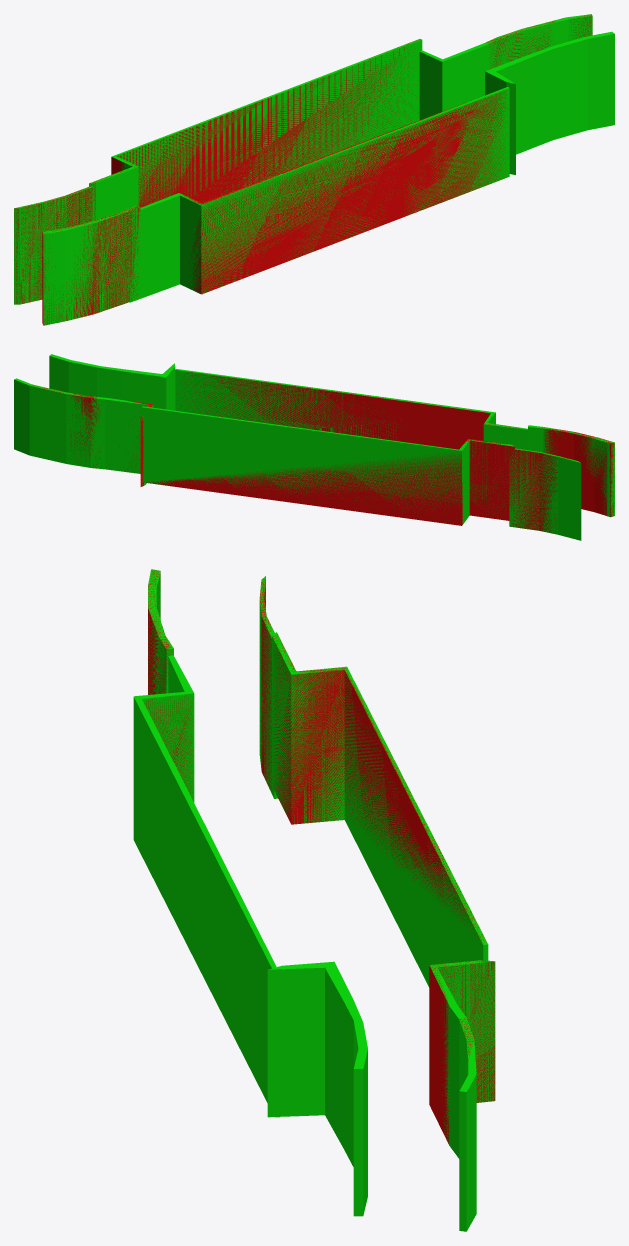
File: InvisibleWall_002.fbx
3 renders of one model, top to bottom at view 1: azimuth 30°, elevation 25°; view 2: azimuth 150°, elevation 25°; view 3: azimuth 270°, elevation 25°, orthographic. The views are drawn at different scales.
Parts seen in each view (by area): view 1: InvisibleWall_002_Phys, Designer93, Designer92, Designer99, Designer90, Designer94, Designer91; view 2: InvisibleWall_002_Phys, Designer92, Designer94, Designer93, Designer91, Designer99, Designer90; view 3: InvisibleWall_002_Phys, Designer93, Designer92, Designer99, Designer94, Designer91, Designer90.
Part boxes in pixels (x1=…): InvisibleWall_002_Phys: x1=14, y1=14, x2=592, y2=324; Designer93: x1=129, y1=87, x2=509, y2=302; Designer92: x1=89, y1=39, x2=422, y2=220; Designer99: x1=485, y1=31, x2=614, y2=175; Designer90: x1=43, y1=205, x2=140, y2=325; Designer94: x1=419, y1=14, x2=592, y2=119; Designer91: x1=14, y1=186, x2=94, y2=304; InvisibleWall_002_Phys: x1=30, y1=371, x2=614, y2=533; Designer92: x1=142, y1=406, x2=514, y2=524; Designer94: x1=14, y1=378, x2=153, y2=485; Designer93: x1=175, y1=369, x2=527, y2=450; Designer91: x1=509, y1=448, x2=581, y2=540; Designer99: x1=49, y1=354, x2=175, y2=410; Designer90: x1=528, y1=425, x2=614, y2=516; InvisibleWall_002_Phys: x1=144, y1=569, x2=495, y2=1143; Designer93: x1=133, y1=655, x2=279, y2=1117; Designer92: x1=272, y1=632, x2=488, y2=987; Designer99: x1=267, y1=961, x2=367, y2=1216; Designer94: x1=429, y1=960, x2=495, y2=1231; Designer91: x1=259, y1=576, x2=277, y2=798; Designer90: x1=148, y1=569, x2=173, y2=694.
Bounding box in the file's own units: 3149 × 465 × 945.
